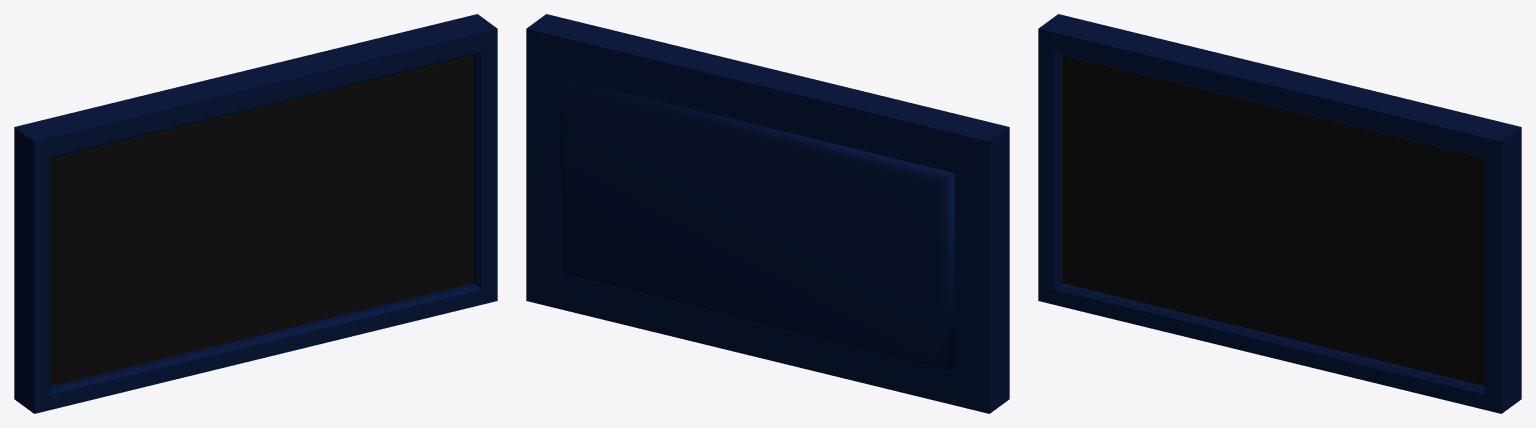
Rendered from myScreen.FBX.
3 views of the same model, side by side, from view 1: azimuth 30°, elevation 25°; view 2: azimuth 150°, elevation 25°; view 3: azimuth 330°, elevation 25° (orthographic).
Visible parts, largest first — view 1: Screen, Box001; view 2: Box001; view 3: Screen, Box001.
Boxes of the visible parts, x1,y1,x2,y2 form: Screen: (50, 55, 473, 386); Box001: (14, 14, 497, 413); Box001: (526, 14, 1009, 413); Screen: (1062, 55, 1484, 385); Box001: (1038, 14, 1521, 413).
Size of the model in its own units: 39.61 by 22.25 by 3.71.
